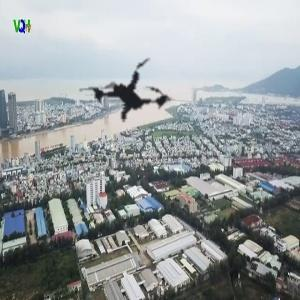drone: (52, 17, 202, 167)
